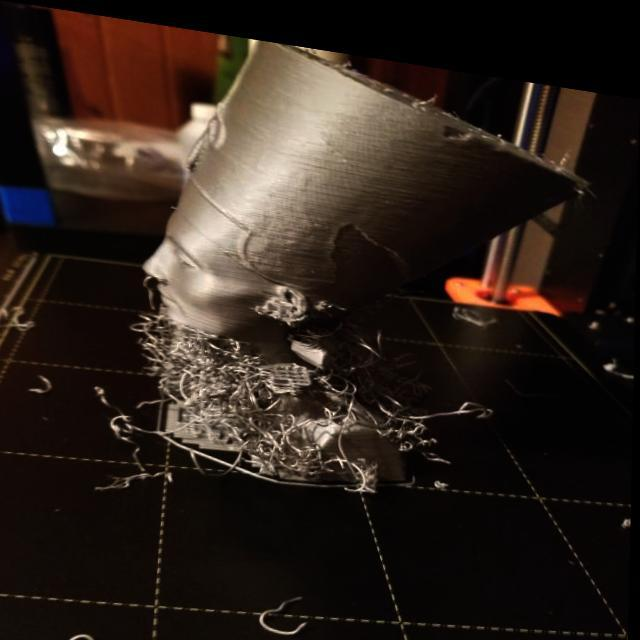spaghetti: (59, 268, 487, 521)
